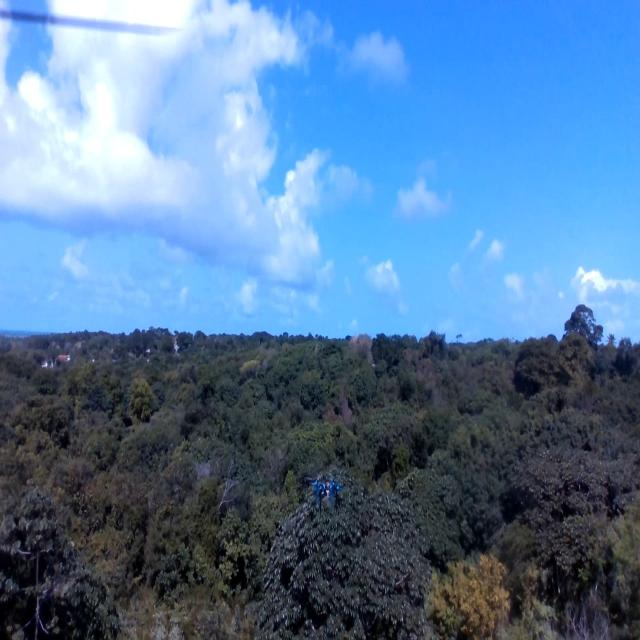-uav-: (304, 464, 345, 520)
